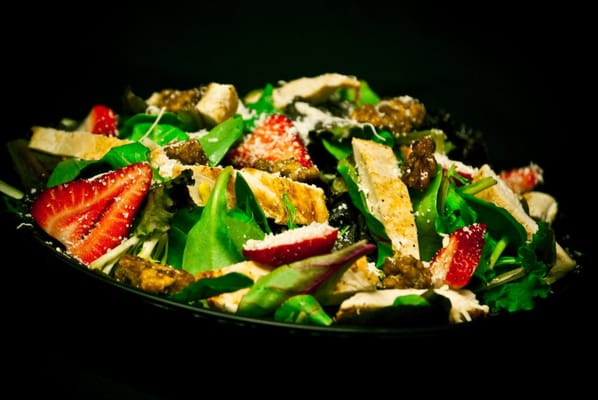sushi: (9, 67, 573, 349)
